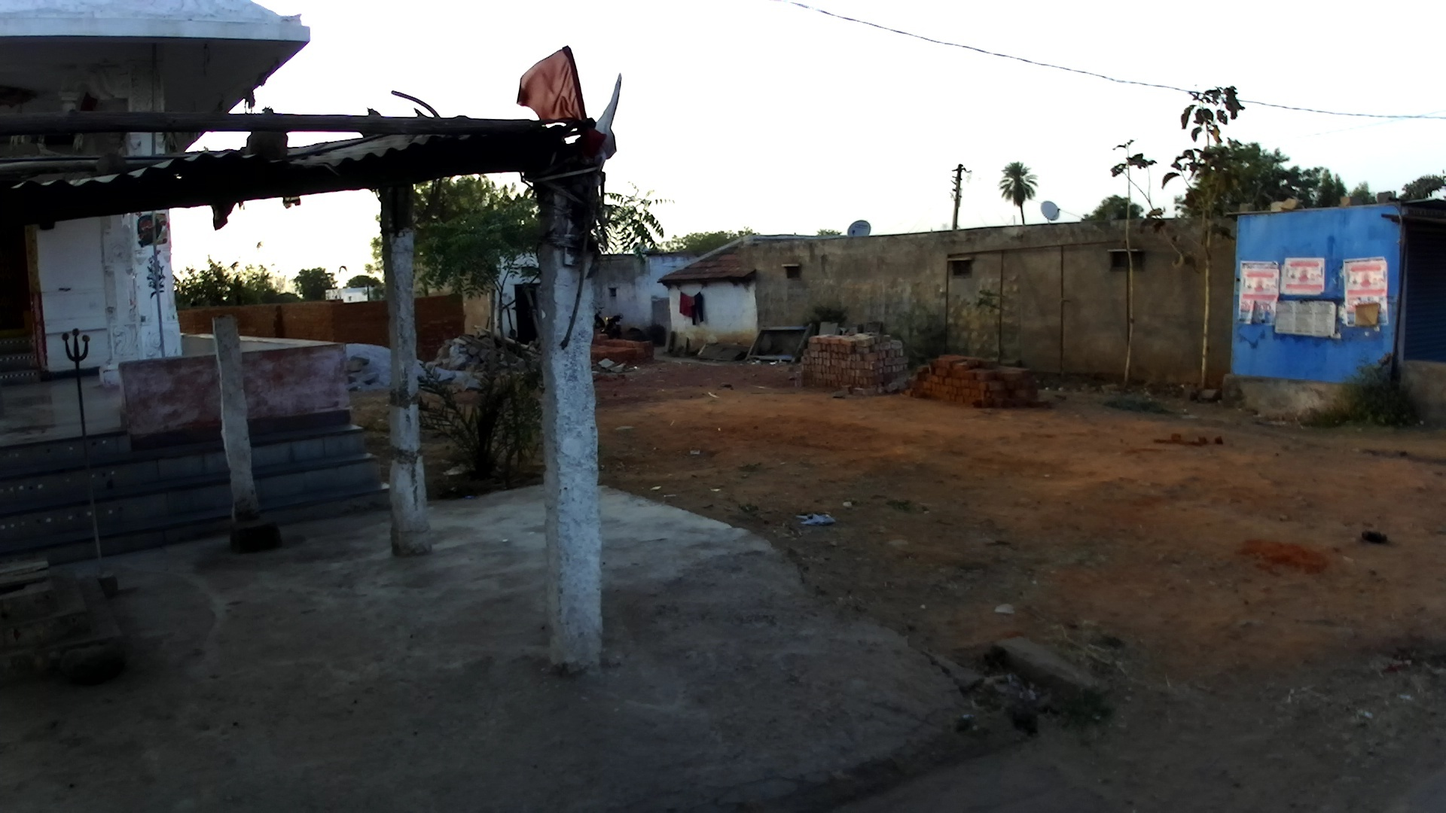motorcycle: (598, 315, 626, 339), (594, 304, 606, 328)
person: (508, 327, 521, 341)
